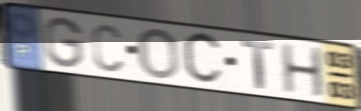C: (180, 30, 225, 88), (90, 22, 125, 74)
G: (42, 15, 85, 70)
H: (280, 43, 327, 100)
O: (137, 26, 181, 81)
T: (240, 38, 275, 91)
